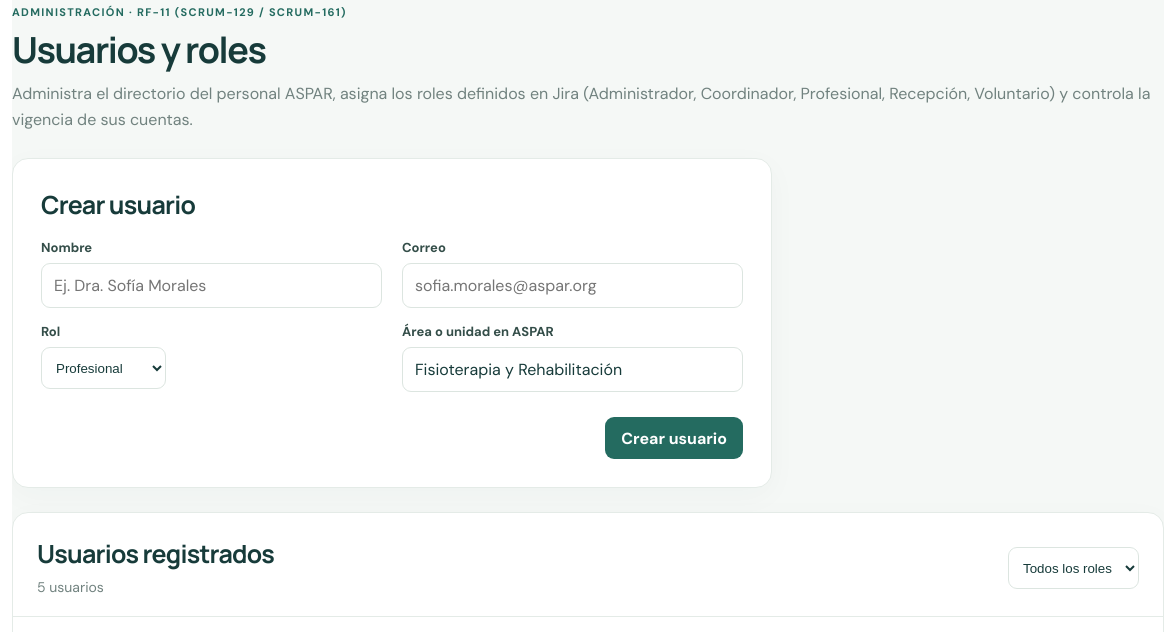
Scenario: SCRUM-161: UsersView — gestión de usuarios y roles › rechaza un correo duplicado
Step 1. Type "Otra Persona" into the field with id "user-name" → (212, 286), box [41,264,382,308]
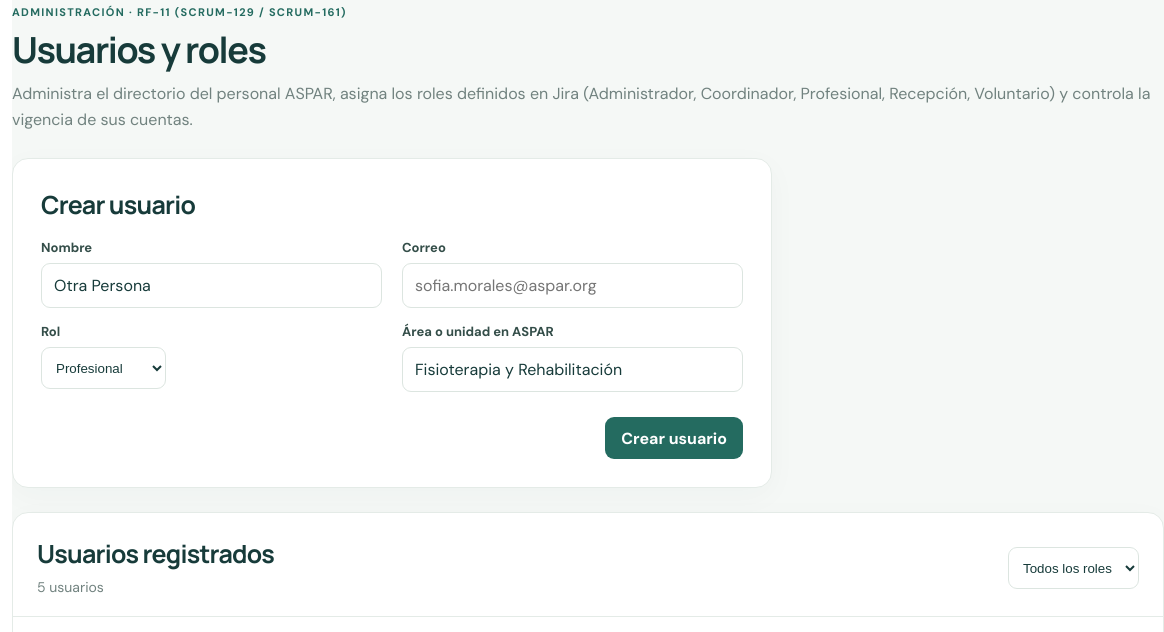
Step 2. Type "admin@aspar.org" into the field with id "user-email" → (572, 286), box [402,264,743,308]
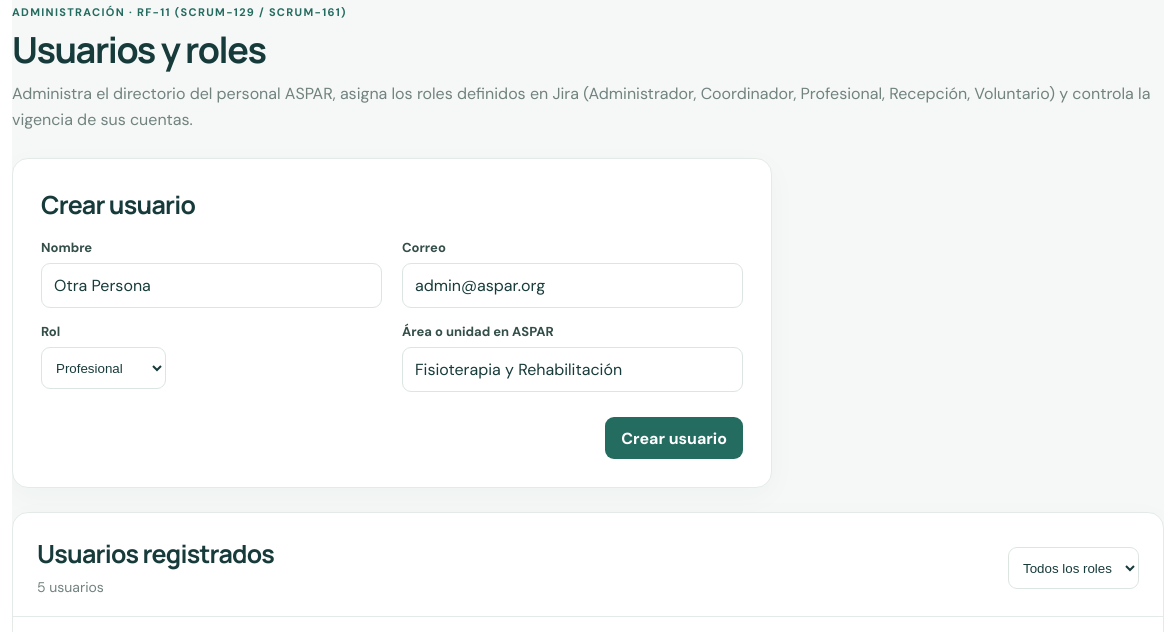
Step 3. Submit the form, box [12,158,772,488]
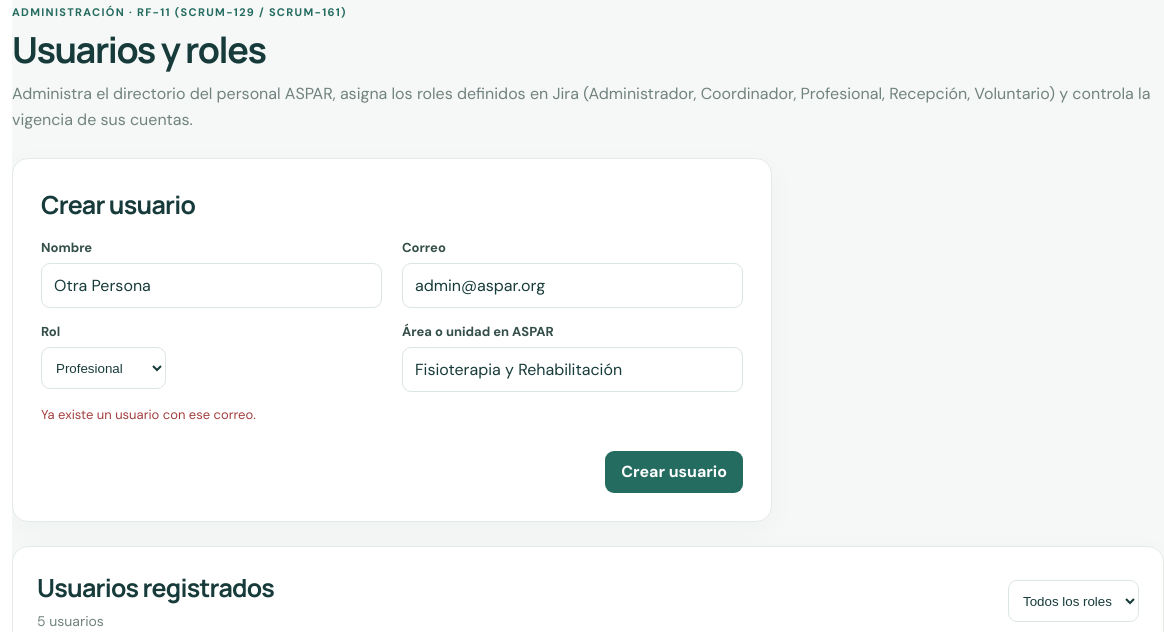
Expected: the text "Ya existe un usuario con ese correo." is shown, [41,406,256,424]
